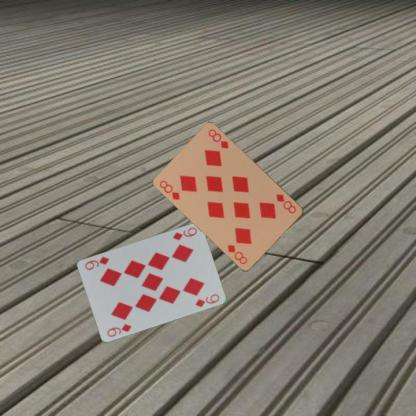8d: (157, 177, 182, 201), (274, 191, 297, 215)
9d: (104, 321, 133, 338), (171, 224, 198, 242)
